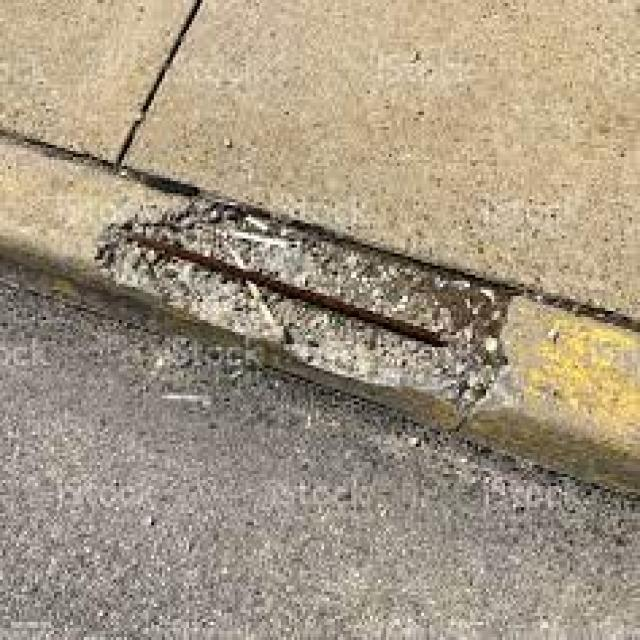curb: (8, 138, 503, 436), (443, 295, 632, 503)
